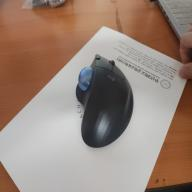mouse: (74, 52, 136, 150)
